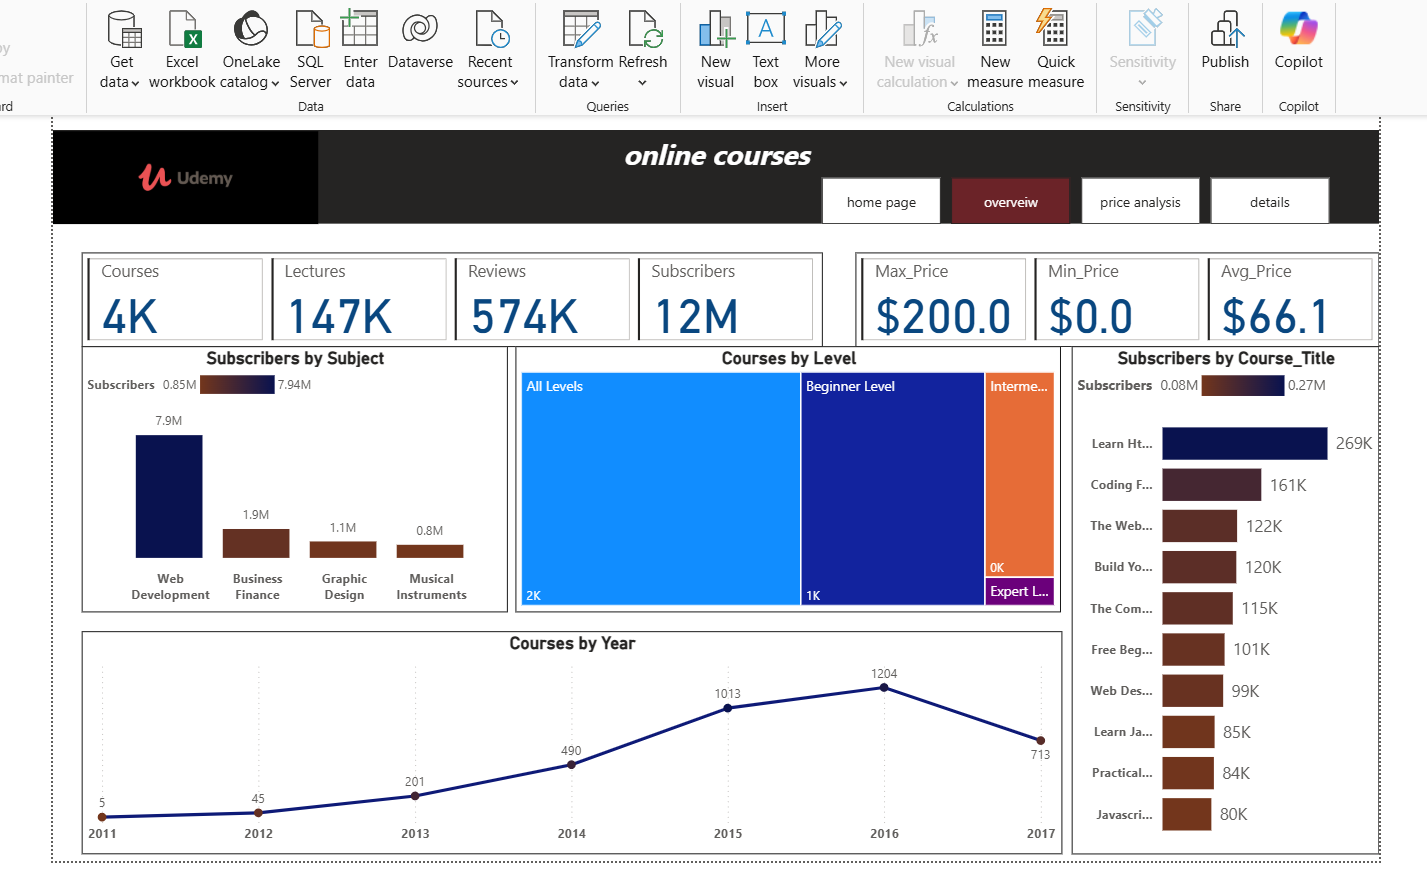

Layout of this report page (visuals, bound fields, positions):
{"tool":"powerbi","page":{"name":"overveiw","canvas":[1280,720],"ordinal":1},"visuals":[{"type":"textbox","box":[0,14.5,1280,90.5],"z":0},{"type":"image","box":[0,15.7,255.8,89.3],"z":1000},{"type":"cardVisual","fields":{"Data":["udemy.Courses","udemy.Lectures","udemy.Reviews","udemy.Subscribers"]},"box":[27.5,132.5,715,91.2],"z":2000},{"type":"cardVisual","fields":{"Data":["udemy.Max_Price","udemy.Min_Price","udemy.Avg_Price"]},"box":[775,132.5,505.6,91.1],"z":3000},{"type":"columnChart","fields":{"Category":["udemy.Subject"],"Y":["udemy.Subscribers"]},"box":[27.8,223.3,411.1,256.7],"z":4000},{"type":"treemap","fields":{"Group":["udemy.Level","udemy.Subject"],"Values":["udemy.Courses"]},"box":[446.7,223.3,526.7,256.7],"z":5000},{"type":"lineChart","title":"Courses by Year","fields":{"Category":["udemy.Published_Timestamp.Variation.Date Hierarchy.Year"],"Y":["udemy.Courses"]},"box":[28,498,946,215],"z":6000},{"type":"barChart","fields":{"Category":["udemy.Course_Title"],"Y":["udemy.Subscribers"]},"box":[983,223,297,490],"z":7000},{"type":"pageNavigator","box":[742.5,60,492.5,45],"z":7501}]}

Visuals, with their boxes in screenshot pixels (x1, y1, x2, y2):
textbox: crop(19, 123, 1376, 219)
image: crop(19, 124, 290, 219)
cardVisual - udemy.Courses x udemy.Lectures: crop(48, 248, 806, 345)
cardVisual - udemy.Max_Price x udemy.Min_Price: crop(840, 248, 1377, 345)
columnChart - udemy.Subject x udemy.Subscribers: crop(48, 345, 484, 617)
treemap - udemy.Level x udemy.Subject: crop(492, 345, 1051, 617)
"Courses by Year" lineChart: crop(48, 636, 1051, 864)
barChart - udemy.Course_Title x udemy.Subscribers: crop(1061, 344, 1376, 864)
pageNavigator: crop(806, 171, 1328, 219)
